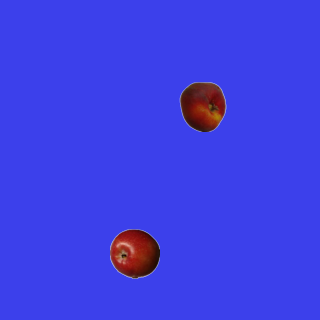Apple Braeburn: (109, 228, 159, 278)
Nectarine Flat: (177, 81, 227, 131)
